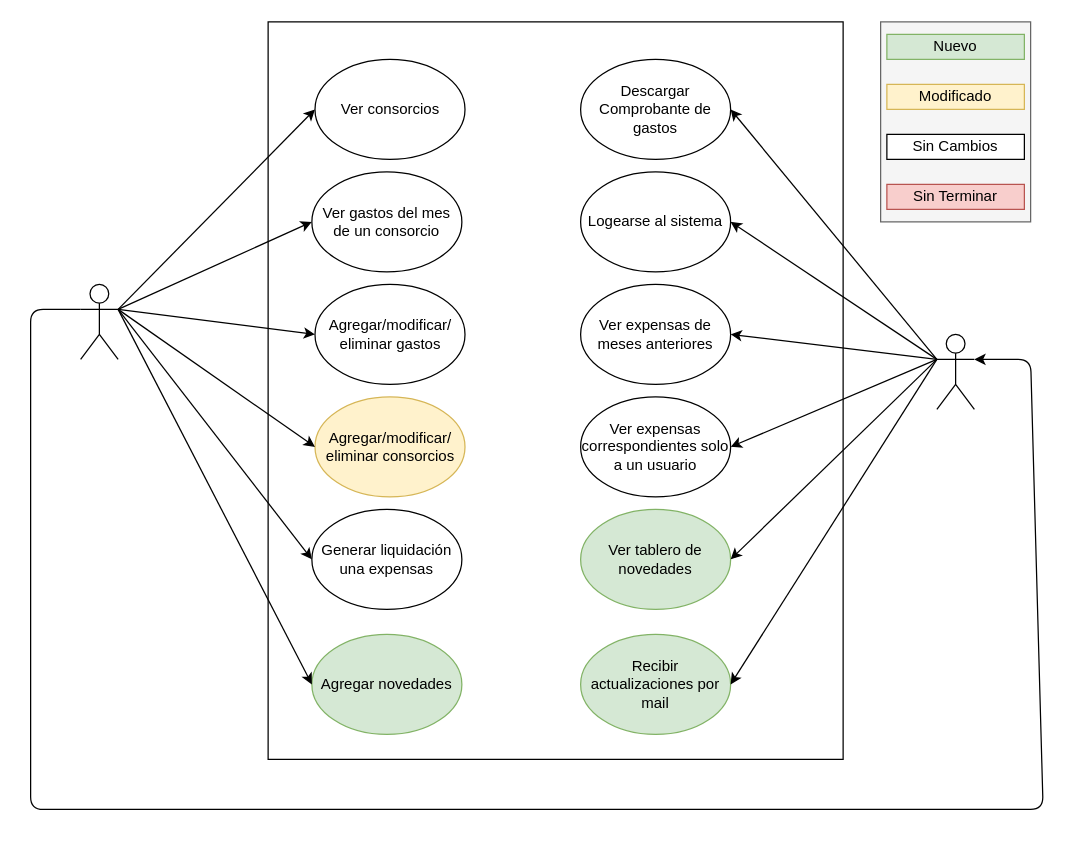
Some shapes in this 1075 by 841 pixel diagram are drawn without their labels. The box of each missing label's shape, as (x1, y1, x2, y2) in pixels:
Administrador Consorcio: (79, 283, 118, 359)
Usuario: (936, 333, 974, 409)
